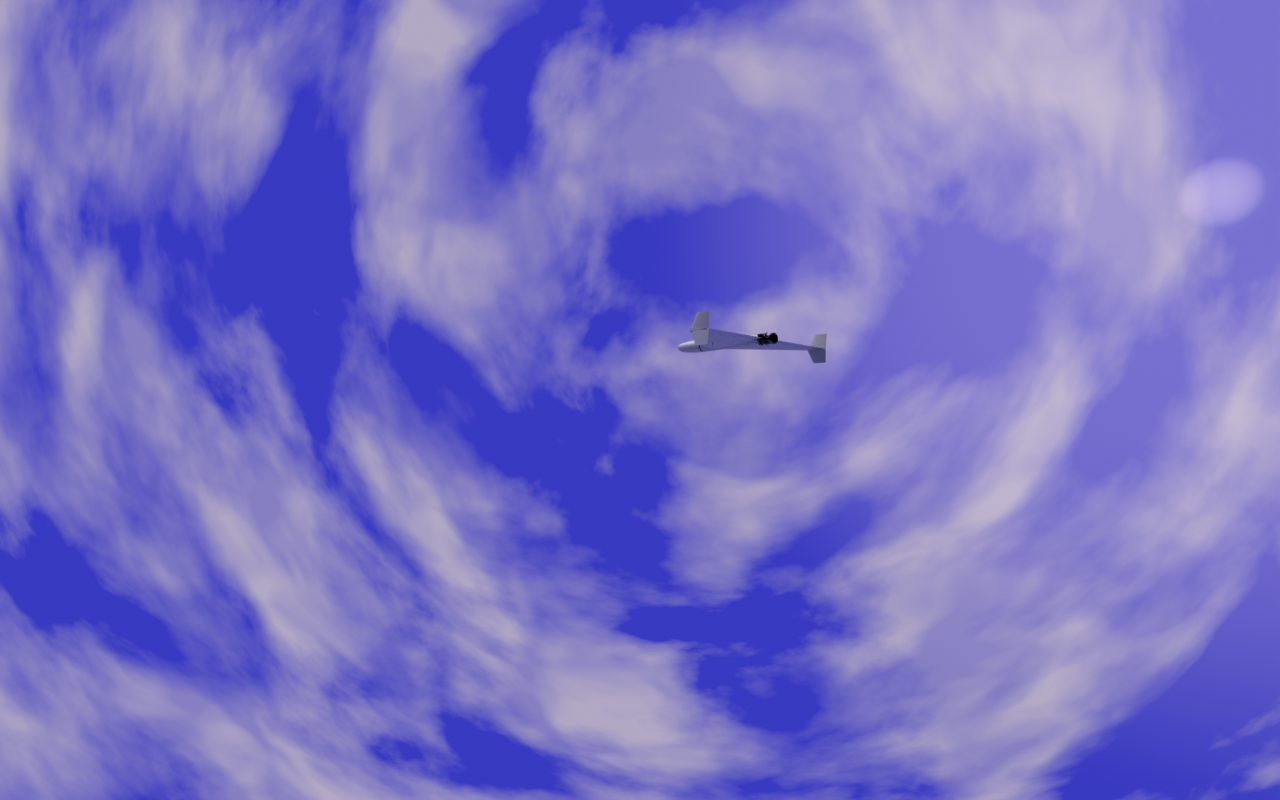shahed: (677, 311, 829, 365)
